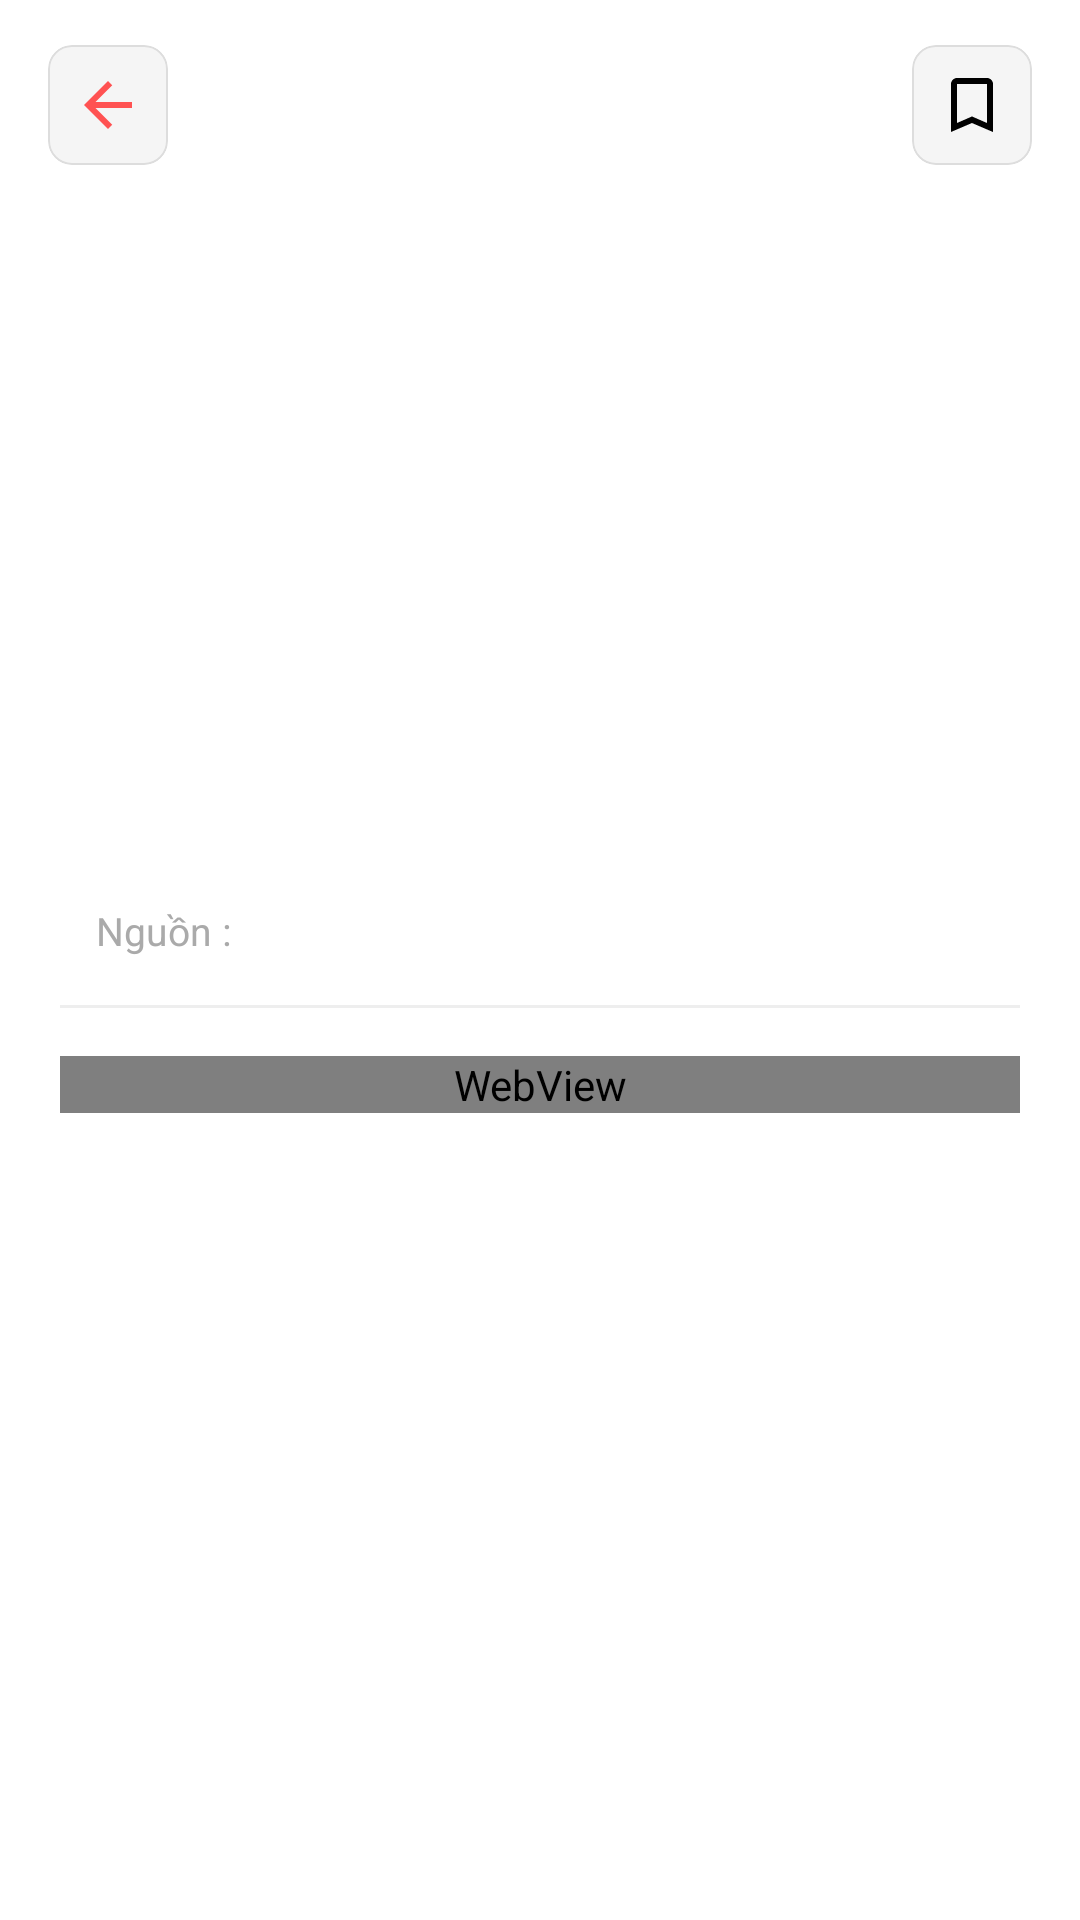

Icon bounding boxes for this 1080×1920 phone screenshot, format (x1, y1, x2, y2):
back: (48, 45, 168, 165)
bookmark border: (912, 45, 1032, 165)
